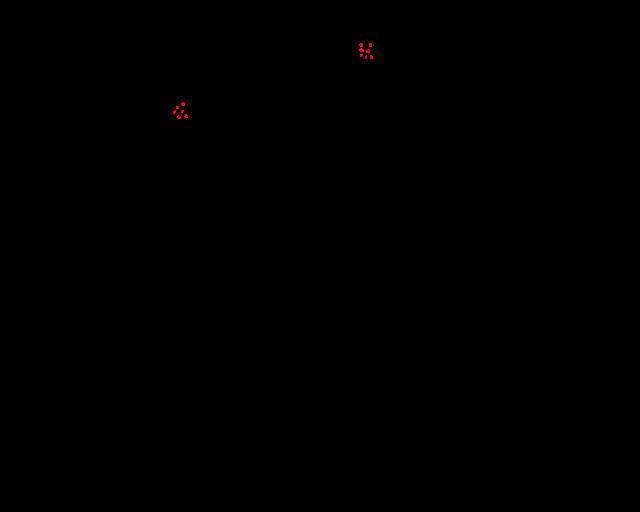Target: (359, 48, 364, 52), (359, 43, 363, 47), (366, 49, 370, 53), (181, 102, 185, 106), (184, 114, 188, 118), (177, 115, 181, 119), (369, 43, 372, 47), (370, 55, 373, 59), (173, 110, 176, 114), (360, 54, 363, 57), (176, 106, 179, 109), (181, 110, 184, 113), (365, 55, 367, 59)
